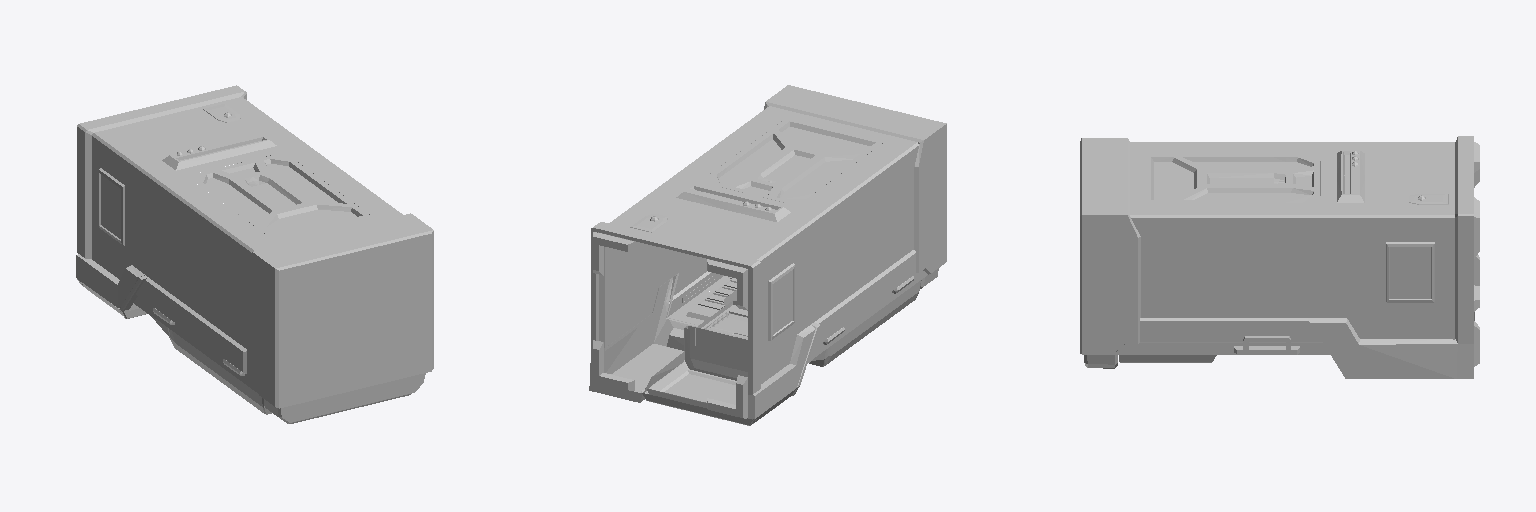
The model's file is Vending_Machine.obj.
The picture shows the model from 3 angles: view 1: azimuth 30°, elevation 25°; view 2: azimuth 150°, elevation 25°; view 3: azimuth 270°, elevation 25°; orthographic projection.
Visible parts, largest first — view 1: mesh0_dat_desirefx_me_out; view 2: mesh0_dat_desirefx_me_out; view 3: mesh0_dat_desirefx_me_out.
Boxes of the visible parts, x1=… form: mesh0_dat_desirefx_me_out: x1=76, y1=85, x2=433, y2=423; mesh0_dat_desirefx_me_out: x1=589, y1=85, x2=946, y2=425; mesh0_dat_desirefx_me_out: x1=1080, y1=136, x2=1479, y2=378.
Size of the model in its own units: 4.82 by 4.74 by 10.